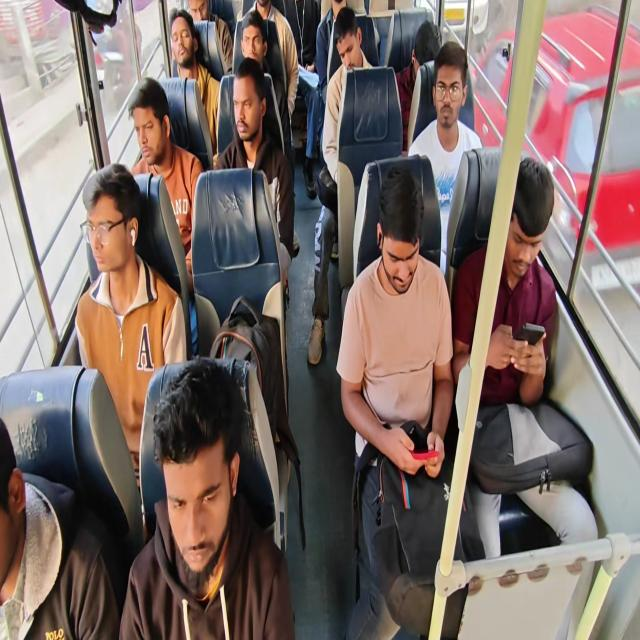person: (146, 380, 226, 576), (85, 180, 157, 354), (0, 438, 79, 580), (374, 176, 442, 334), (496, 161, 561, 296), (229, 70, 291, 164), (125, 83, 179, 175), (167, 11, 210, 102), (282, 2, 327, 87), (432, 51, 474, 136), (407, 23, 450, 75), (334, 14, 354, 76), (239, 18, 261, 74), (184, 0, 230, 25), (252, 0, 280, 31), (326, 0, 354, 16)
